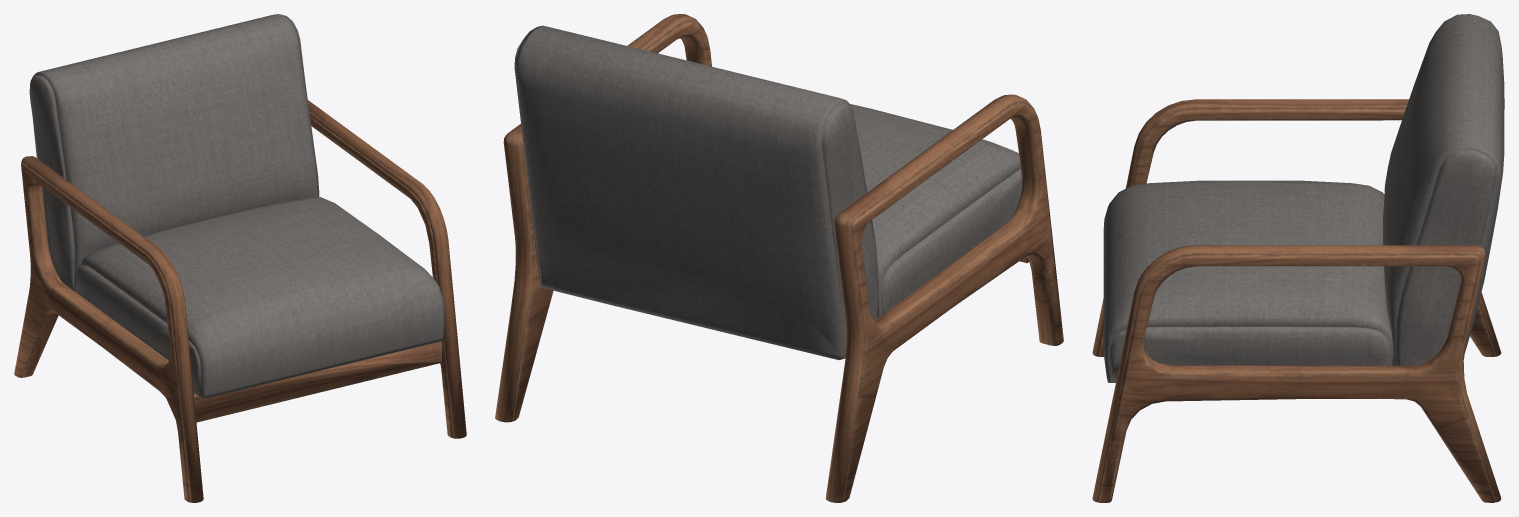
The model's file is Armchair-1.glb.
3 renders of one model, left to right at view 1: azimuth 30°, elevation 25°; view 2: azimuth 150°, elevation 25°; view 3: azimuth 270°, elevation 25°, orthographic. The views are drawn at different scales.
Visible parts, largest first — view 1: chair; view 2: chair; view 3: chair.
Boxes of the visible parts, x1=… form: chair: x1=14, y1=14, x2=466, y2=502; chair: x1=495, y1=14, x2=1063, y2=502; chair: x1=1092, y1=14, x2=1504, y2=502.
Size of the model in its own units: 0.715 by 0.7472 by 0.8061.
1 material, 1 textured.
